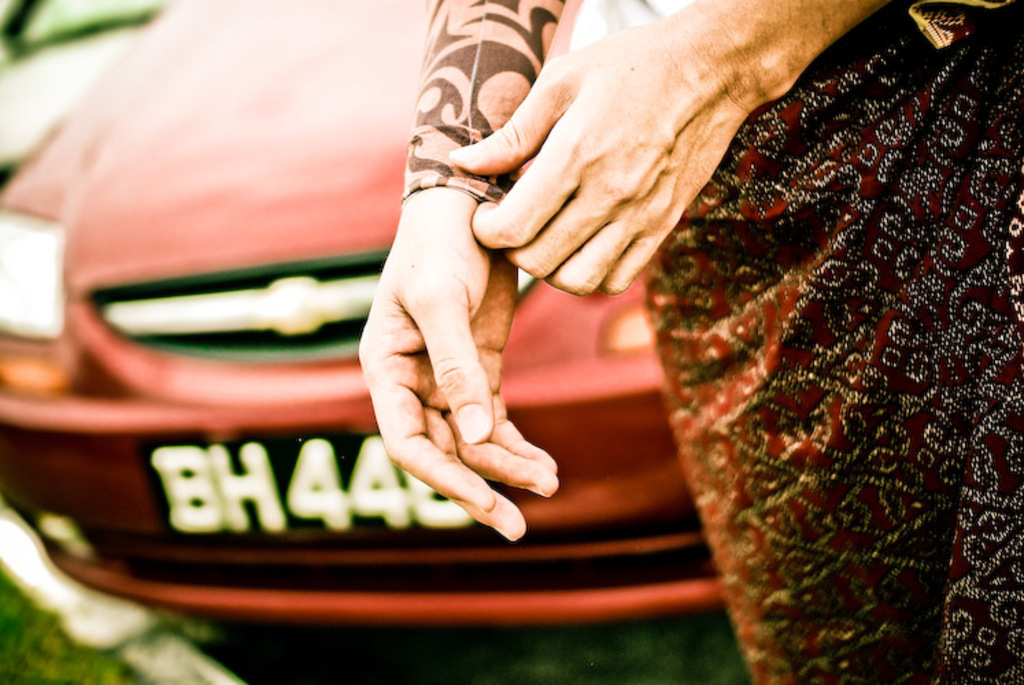Car: (0, 0, 726, 611)
